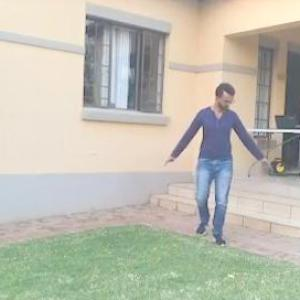land: (160, 81, 264, 252)
